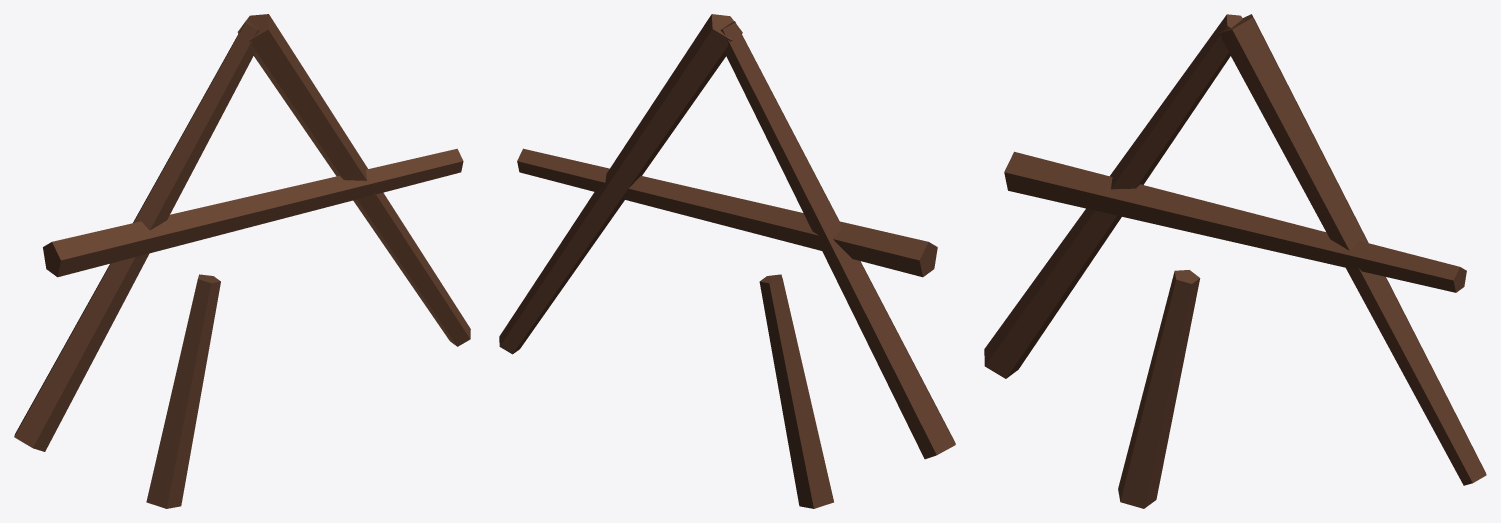
File: goblin-daub.glb
3 views of the same model, side by side, from view 1: azimuth 30°, elevation 25°; view 2: azimuth 150°, elevation 25°; view 3: azimuth 330°, elevation 25° (orthographic). The views are drawn at different scales.
Parts seen in each view (by area): view 1: Iron; view 2: Iron; view 3: Iron.
Boxes of the visible parts, x1,y1,x2,y2 form: Iron: (14, 14, 470, 508); Iron: (499, 14, 955, 508); Iron: (984, 14, 1486, 508).
Bounding box in the file's own units: 0.4955 × 0.4825 × 0.0442.
